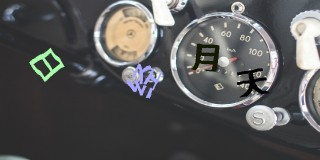天: (235, 67, 269, 97)
日: (29, 47, 65, 82)
月: (191, 43, 220, 72)
经: (126, 62, 161, 100)
